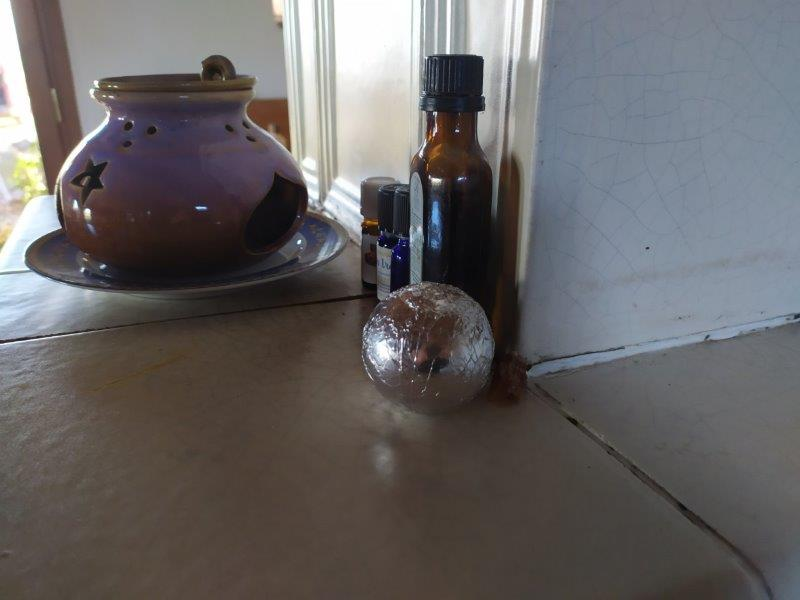bianca: (358, 281, 499, 417)
